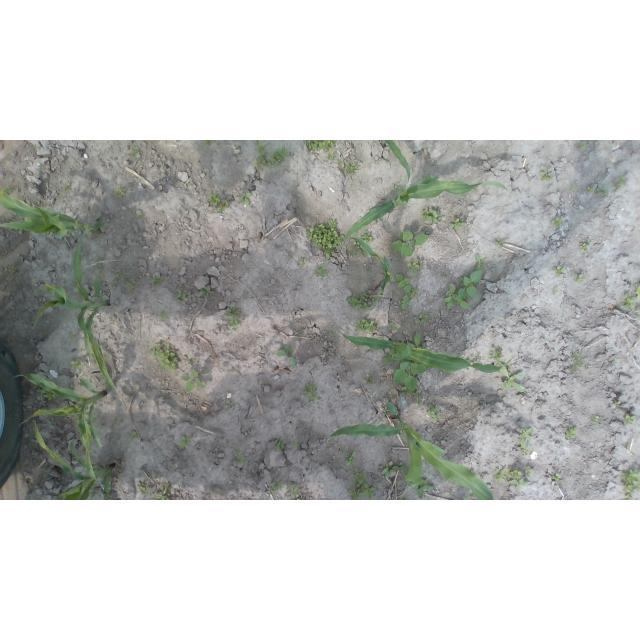Maize: (340, 141, 509, 244), (326, 401, 494, 500), (35, 234, 120, 395), (11, 371, 108, 490), (337, 326, 512, 372), (32, 420, 116, 500), (0, 181, 108, 242), (349, 237, 391, 298)
Weeds: (306, 219, 345, 249), (394, 359, 427, 393), (390, 230, 430, 258), (149, 342, 177, 375), (499, 363, 525, 393), (444, 282, 470, 310), (459, 270, 481, 298), (619, 465, 640, 493), (181, 369, 206, 392), (347, 293, 375, 312), (267, 147, 289, 167), (275, 346, 297, 366), (508, 470, 527, 493), (252, 141, 268, 168), (226, 307, 243, 331), (416, 479, 435, 499), (303, 382, 321, 403), (304, 141, 336, 152), (408, 334, 428, 351), (396, 273, 412, 293), (570, 351, 586, 370), (519, 428, 534, 448), (425, 404, 442, 421), (154, 482, 170, 500), (382, 461, 398, 479), (358, 485, 377, 500), (353, 468, 368, 487), (356, 318, 375, 333), (420, 208, 438, 223), (41, 389, 60, 403), (206, 192, 220, 209), (408, 259, 423, 274), (269, 479, 285, 493), (342, 162, 359, 175), (465, 352, 482, 365), (381, 349, 395, 364), (623, 293, 636, 309), (475, 254, 487, 271), (612, 176, 626, 190), (235, 448, 248, 463), (288, 483, 301, 498), (489, 346, 502, 361), (240, 190, 252, 206), (450, 218, 466, 230), (178, 437, 192, 450), (198, 286, 212, 299), (315, 265, 329, 278), (137, 482, 151, 494), (418, 311, 430, 325), (566, 425, 577, 440), (624, 414, 637, 426), (275, 437, 286, 451), (346, 453, 357, 467), (540, 171, 555, 181), (360, 230, 372, 242), (580, 238, 592, 250), (176, 289, 188, 301), (114, 186, 126, 198), (219, 199, 230, 212), (349, 488, 360, 501), (495, 469, 506, 482), (323, 249, 336, 260), (401, 295, 410, 310), (70, 359, 82, 370), (114, 268, 125, 280), (357, 246, 367, 259), (391, 184, 405, 193), (555, 265, 566, 276), (160, 309, 171, 320), (552, 217, 564, 227), (596, 185, 608, 195), (152, 275, 164, 285), (408, 289, 420, 299), (363, 375, 373, 386), (634, 281, 640, 299), (89, 230, 102, 238), (96, 269, 107, 278), (415, 393, 423, 405), (129, 431, 138, 441), (553, 472, 562, 482), (225, 400, 235, 409), (522, 448, 533, 456), (496, 237, 504, 248), (351, 241, 360, 250), (576, 274, 585, 283), (389, 322, 398, 331), (525, 465, 533, 475), (624, 492, 633, 500), (90, 490, 98, 499), (299, 258, 308, 266), (400, 463, 406, 474), (130, 147, 138, 155), (104, 492, 112, 500), (126, 282, 134, 290), (62, 182, 70, 190), (8, 267, 17, 274), (202, 140, 212, 146), (291, 441, 299, 448), (614, 401, 621, 409), (593, 416, 599, 425), (70, 333, 77, 340), (327, 152, 333, 160), (552, 286, 558, 294), (586, 187, 594, 193), (34, 290, 43, 295), (422, 174, 431, 179), (579, 142, 586, 148), (383, 406, 389, 412), (94, 257, 100, 263), (465, 495, 472, 500), (290, 254, 295, 259), (339, 160, 343, 165), (113, 419, 118, 423), (298, 329, 302, 334), (399, 497, 405, 500), (237, 296, 241, 300), (179, 283, 183, 287), (297, 497, 302, 500), (571, 187, 574, 190)
